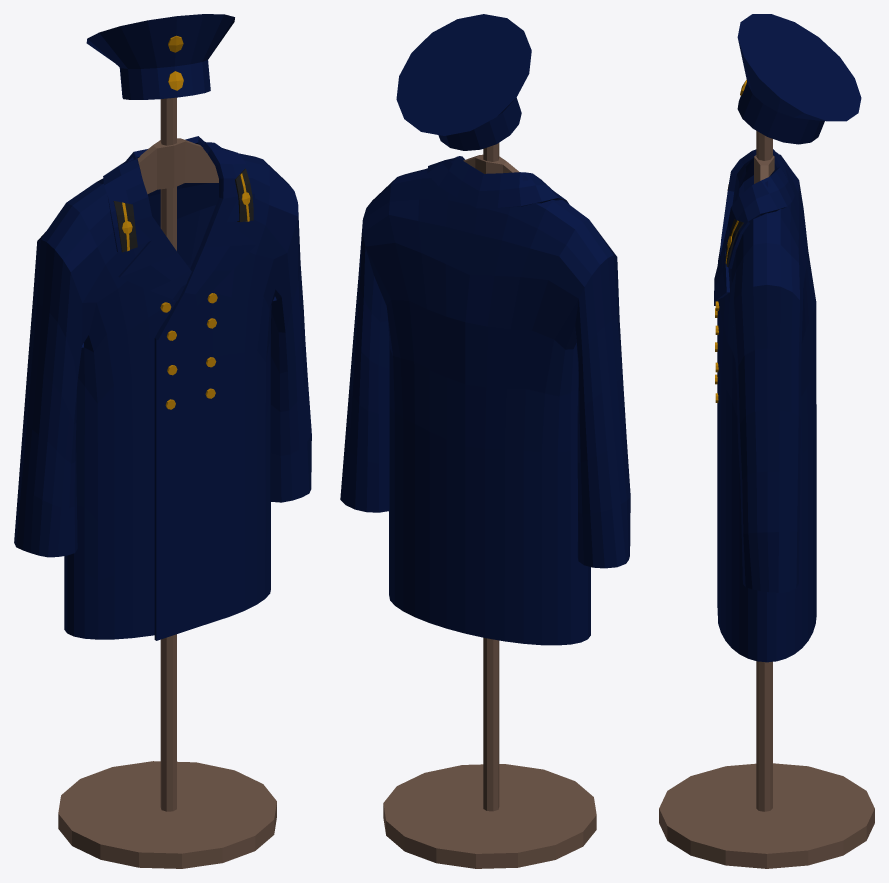
The model's file is 3forma.glb.
The picture shows the model from 3 angles, left to right: view 1: azimuth 30°, elevation 25°; view 2: azimuth 150°, elevation 25°; view 3: azimuth 270°, elevation 25°; orthographic projection. The views are drawn at different scales.
Visible parts, largest first — view 1: Цилиндр.025; view 2: Цилиндр.025; view 3: Цилиндр.025.
Part boxes in pixels (x1=…): Цилиндр.025: x1=14, y1=14, x2=311, y2=868; Цилиндр.025: x1=340, y1=14, x2=630, y2=868; Цилиндр.025: x1=659, y1=14, x2=874, y2=868.
Size of the model in its own units: 1.98 by 5.31 by 1.3.
